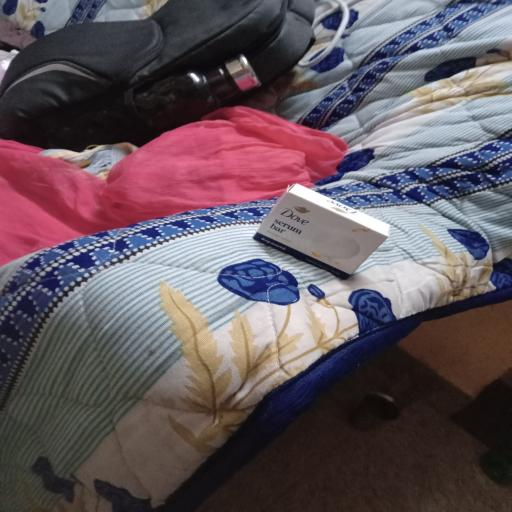Dove`1: (248, 176, 392, 288)
